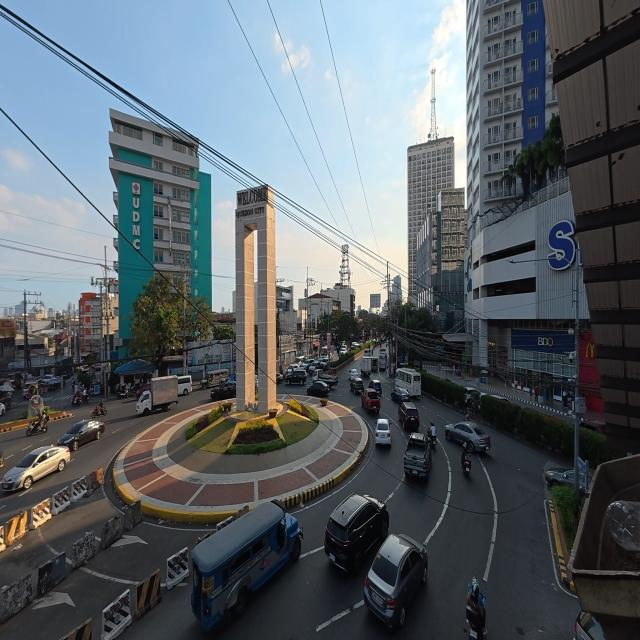bus: (394, 365, 423, 398)
car: (361, 532, 426, 629), (325, 494, 392, 578), (0, 443, 69, 492), (442, 421, 490, 451), (58, 418, 103, 449), (374, 417, 394, 447)
trucks: (403, 430, 437, 478)
